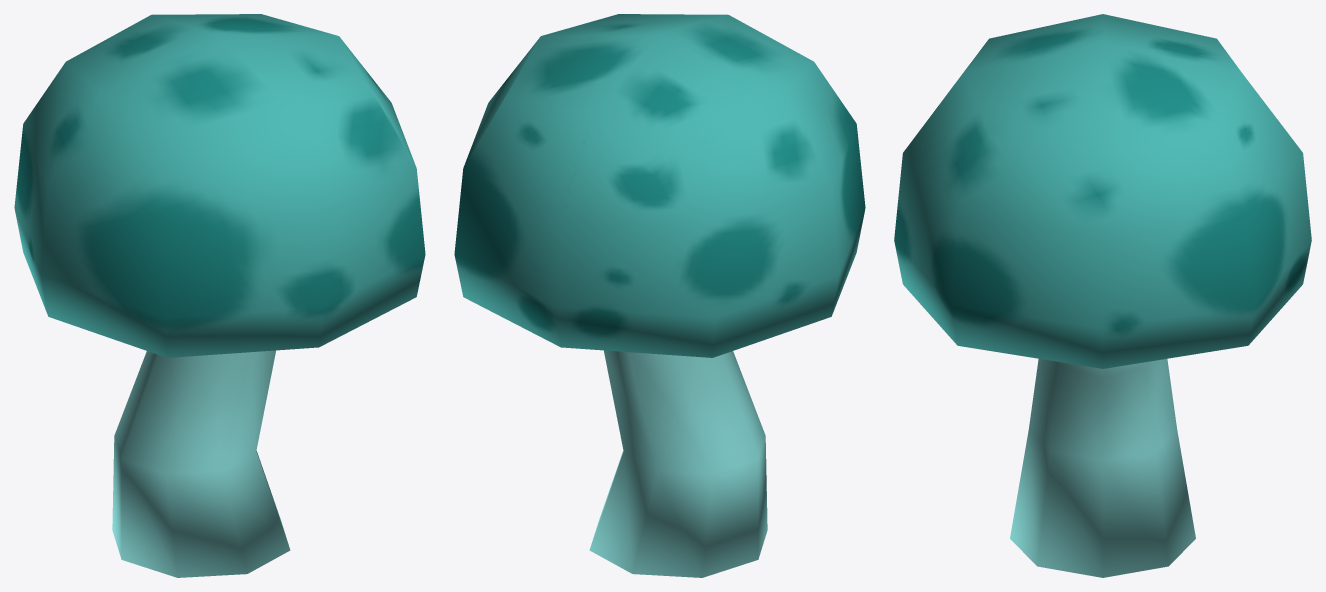
File: GMTKMushroom.fbx
3 renders of one model, left to right at view 1: azimuth 30°, elevation 25°; view 2: azimuth 150°, elevation 25°; view 3: azimuth 270°, elevation 25°, orthographic.
Visible parts, largest first — view 1: Cube.005; view 2: Cube.005; view 3: Cube.005.
Boxes of the visible parts, bbox=[...] form: Cube.005: bbox=[14, 14, 425, 577]; Cube.005: bbox=[454, 14, 865, 577]; Cube.005: bbox=[894, 14, 1311, 577].
Size of the model in its own units: 227 by 302 by 227.
1 material, 1 textured.
